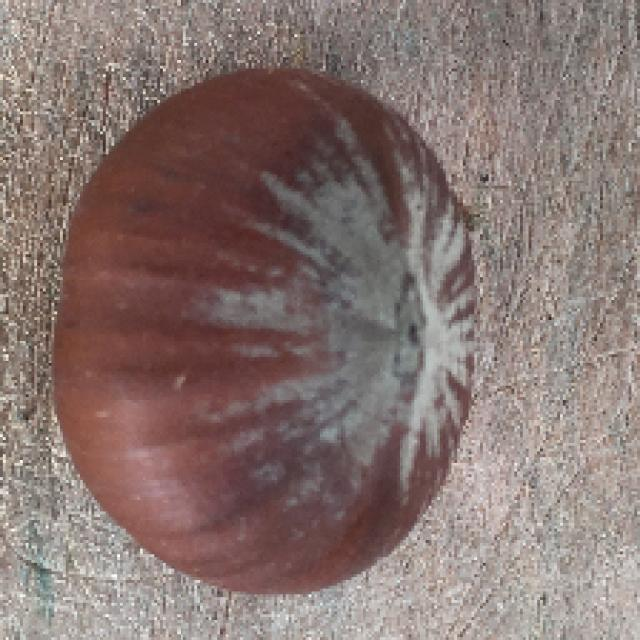damagedHazelnut: (43, 61, 481, 603)
